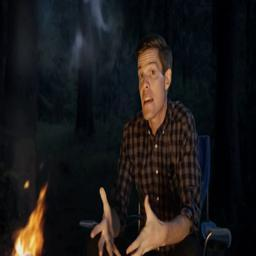fire: (12, 182, 46, 256)
